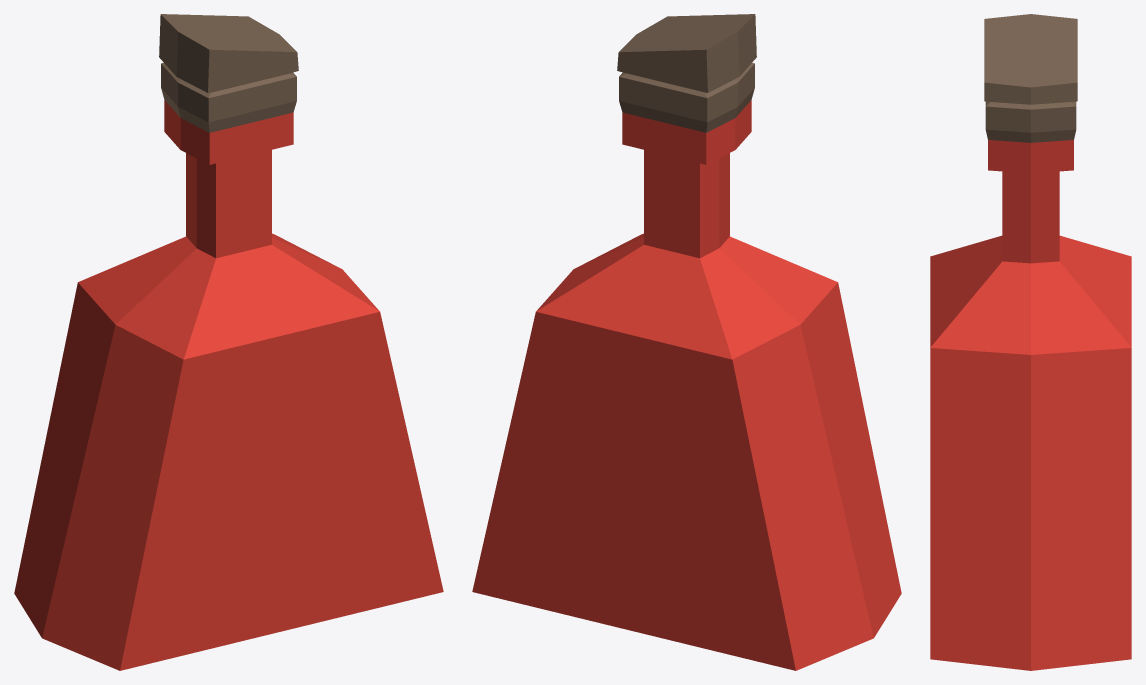
File: Medicine_bottle_4.fbx
The picture shows the model from 3 angles, left to right: view 1: azimuth 30°, elevation 25°; view 2: azimuth 150°, elevation 25°; view 3: azimuth 270°, elevation 25°; orthographic projection. The views are drawn at different scales.
Visible parts, largest first — view 1: Medicine_bottle_4; view 2: Medicine_bottle_4; view 3: Medicine_bottle_4.
Boxes of the visible parts, x1,y1,x2,y2 form: Medicine_bottle_4: (14,14,443,670); Medicine_bottle_4: (472,14,901,670); Medicine_bottle_4: (930,14,1131,670).
Size of the model in its own units: 15.45 by 7.57 by 22.65.
